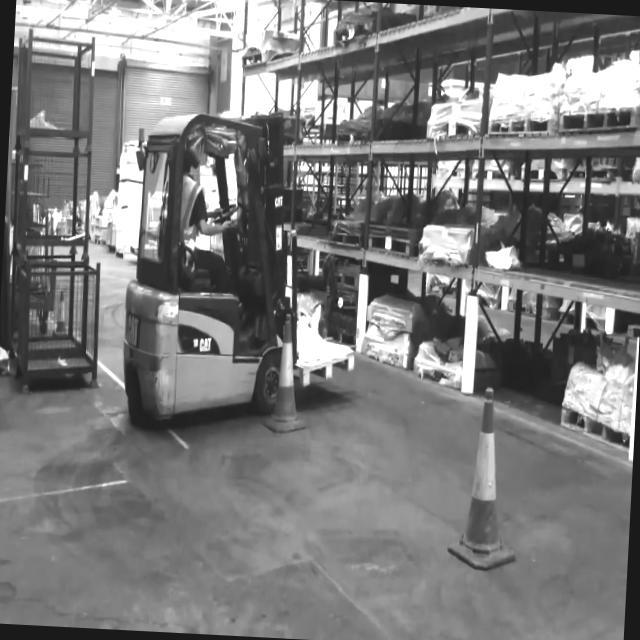driver: (173, 154, 243, 292)
forklift: (112, 96, 304, 442)
